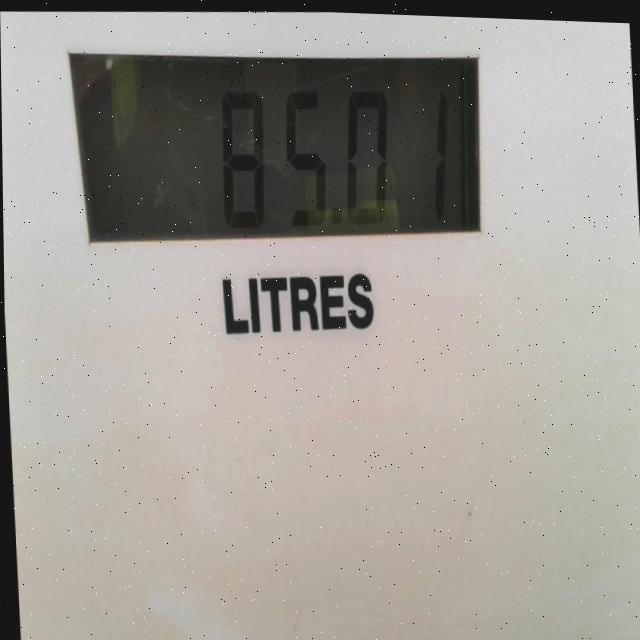.: (325, 191, 350, 229)
0: (336, 79, 401, 226)
1: (411, 72, 455, 224)
5: (275, 80, 332, 226)
8: (212, 67, 272, 224)
